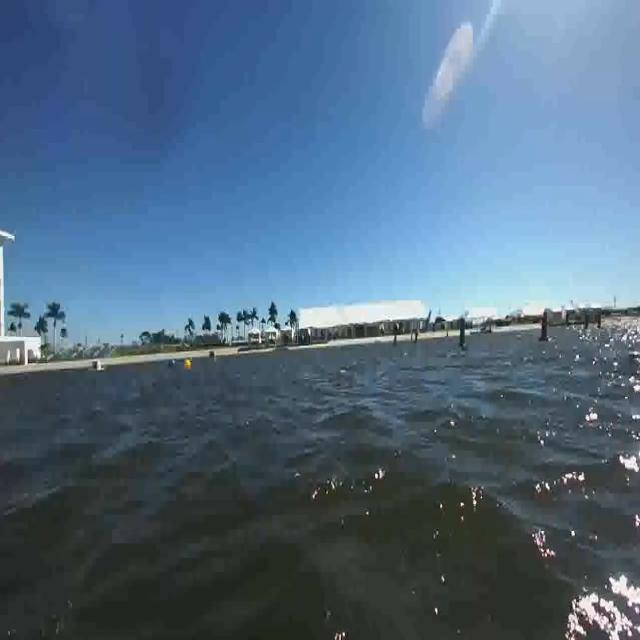yellow-buoy: (184, 357, 192, 371)
